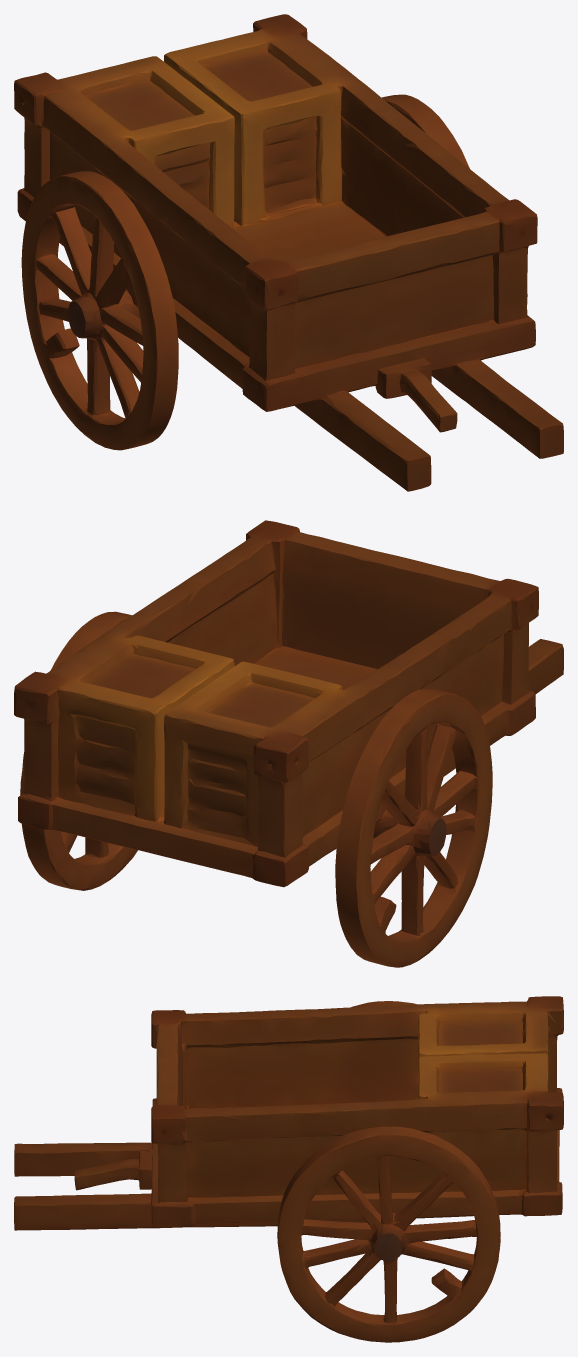
The model's file is cart.fbx.
3 views of the same model, one above another, from view 1: azimuth 30°, elevation 25°; view 2: azimuth 150°, elevation 25°; view 3: azimuth 270°, elevation 25° (orthographic). The views are drawn at different scales.
Visible parts, largest first — view 1: model; view 2: model; view 3: model.
Part boxes in pixels (x1,y1,x2,y2): model: (14,14,563,491); model: (14,520,563,967); model: (14,996,563,1342).
Bounding box in the file's own units: 118 × 85.33 × 189.
1 material, 1 textured.
